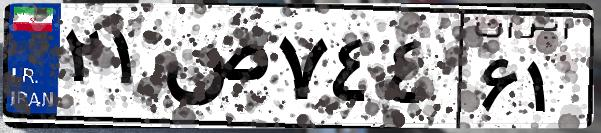1: (525, 38, 570, 115), (110, 28, 158, 98)
2: (57, 26, 110, 100)
4: (385, 28, 445, 110), (330, 28, 385, 110)
6: (475, 38, 525, 113)
7: (270, 28, 330, 110)
ص: (158, 20, 270, 120)
